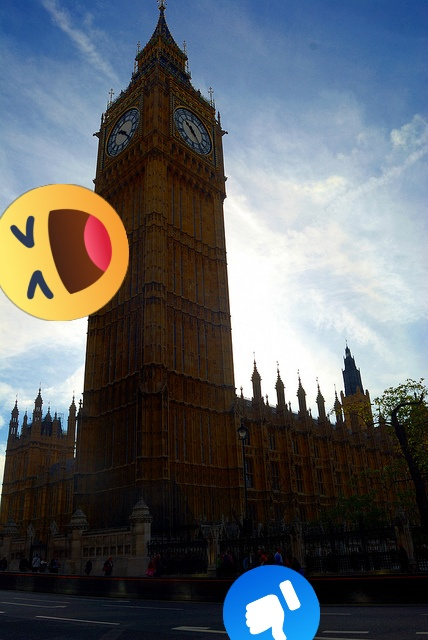haha: (0, 184, 129, 321)
like: (223, 565, 320, 640)
